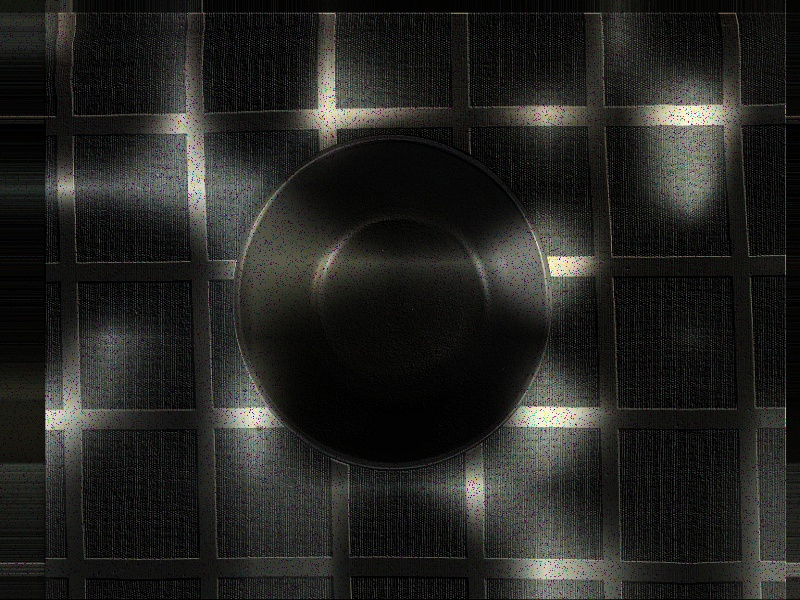bowl_big: (212, 121, 561, 475)
